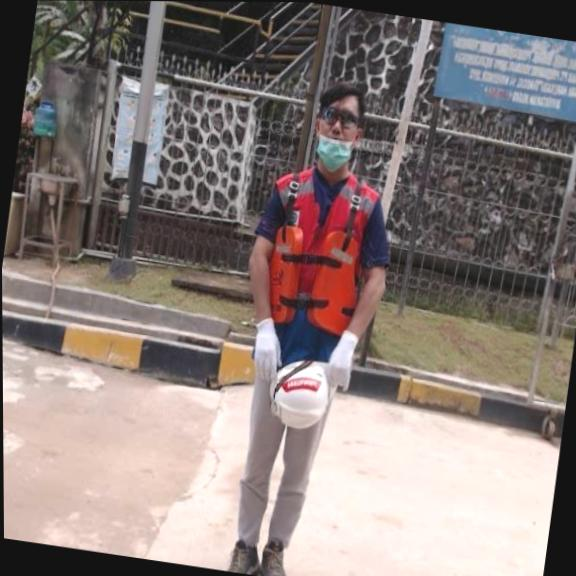safety_vest: (268, 227, 364, 333)
